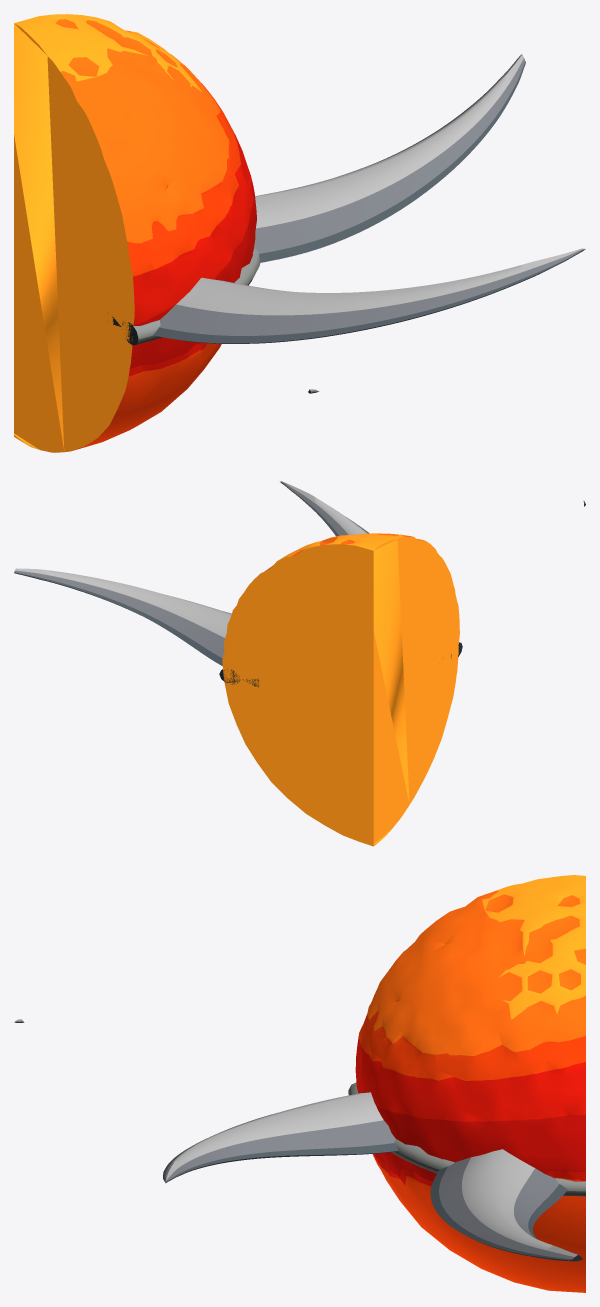
The model's file is orange_saw_br.glb.
The picture shows the model from 3 angles, top to bottom: view 1: azimuth 30°, elevation 25°; view 2: azimuth 150°, elevation 25°; view 3: azimuth 270°, elevation 25°; orthographic projection. The views are drawn at different scales.
Visible parts, largest first — view 1: orange_saw_br; view 2: orange_saw_br; view 3: orange_saw_br.
Part boxes in pixels (x1,y1,x2,y2): orange_saw_br: [14, 14, 585, 452]; orange_saw_br: [14, 481, 585, 846]; orange_saw_br: [14, 875, 585, 1292].
Bounding box in the file's own units: 24 × 18.85 × 24.7.
